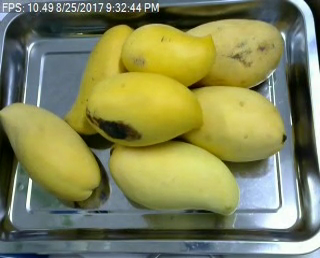Mango: (110, 139, 241, 216), (0, 103, 100, 198), (85, 70, 202, 145), (63, 24, 142, 134), (179, 84, 285, 163), (179, 19, 283, 91), (119, 23, 215, 87)
